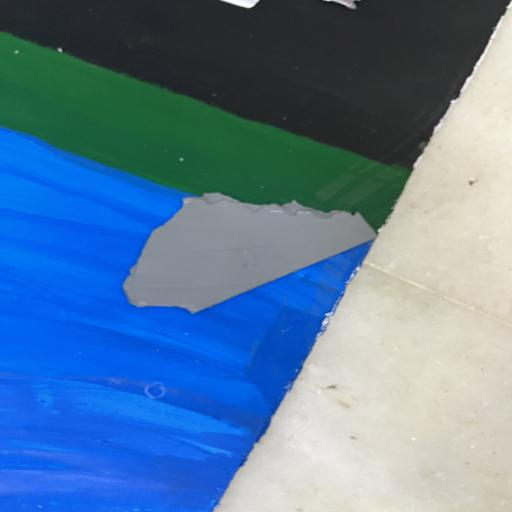encroachment: (122, 190, 378, 320)
